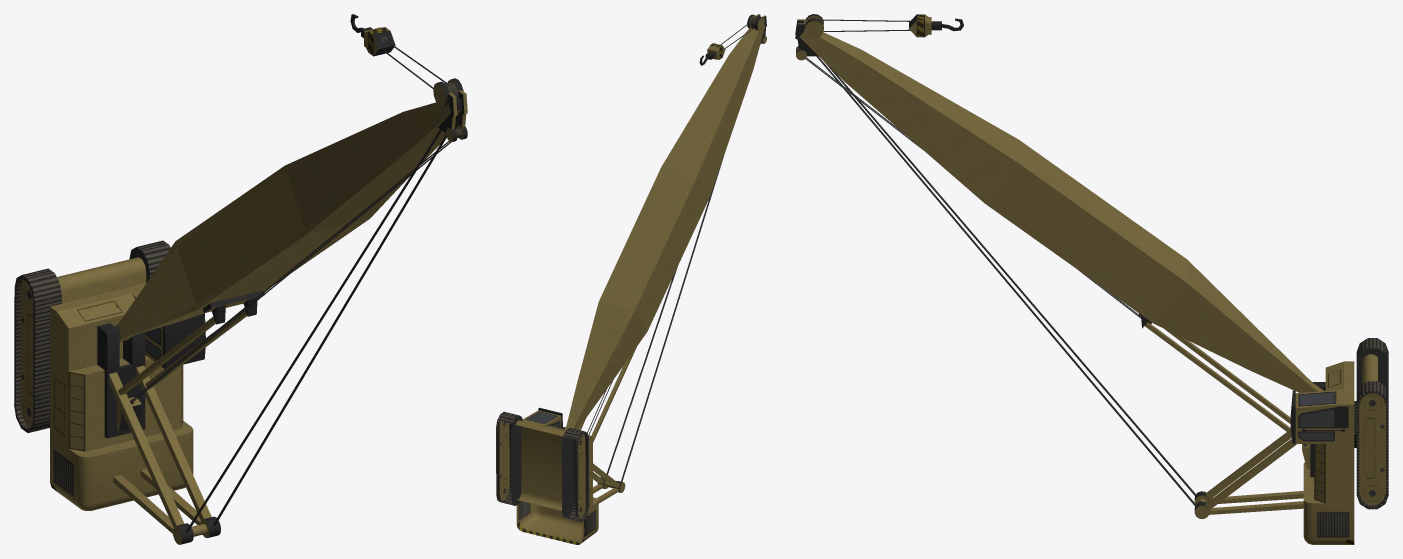
Rendered from tracked_crane.glb.
The picture shows the model from 3 angles, left to right: view 1: azimuth 30°, elevation 25°; view 2: azimuth 150°, elevation 25°; view 3: azimuth 270°, elevation 25°; orthographic projection. The views are drawn at different scales.
Parts seen in each view (by area): view 1: 643183724.Tracked Crane; view 2: 643183724.Tracked Crane; view 3: 643183724.Tracked Crane.
Boxes of the visible parts, x1,y1,x2,y2 form: 643183724.Tracked Crane: (14,14,467,544); 643183724.Tracked Crane: (496,14,766,544); 643183724.Tracked Crane: (795,14,1388,544).
Size of the model in its own units: 4.51 by 19.94 by 21.21.
1 material, 1 textured.
